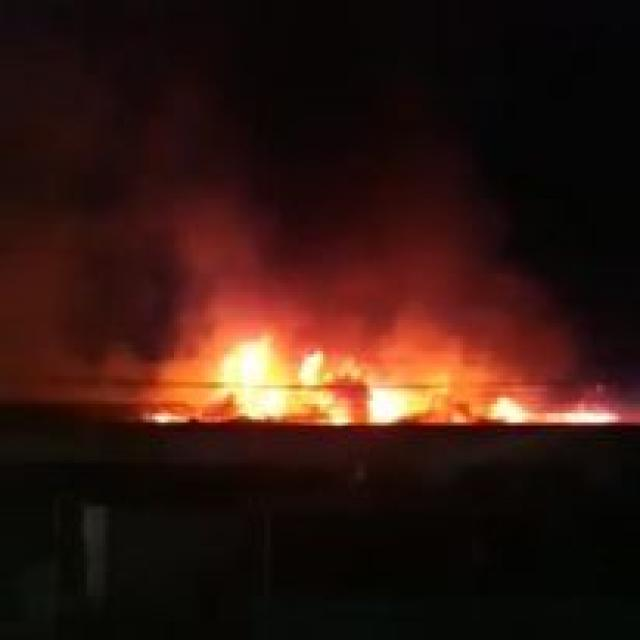Fire: (154, 290, 626, 438)
Smoke: (0, 0, 575, 390)
